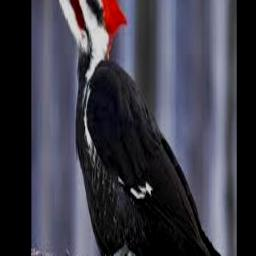Woodpecker: (38, 0, 234, 256)
